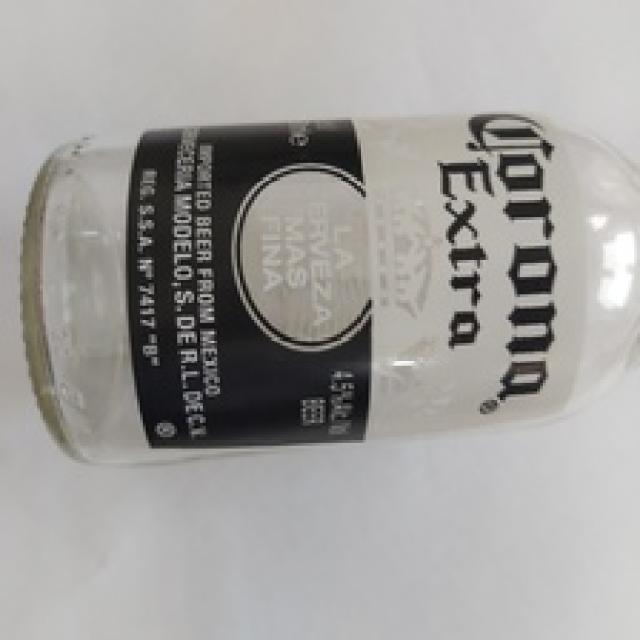Glass: (19, 112, 640, 457)
